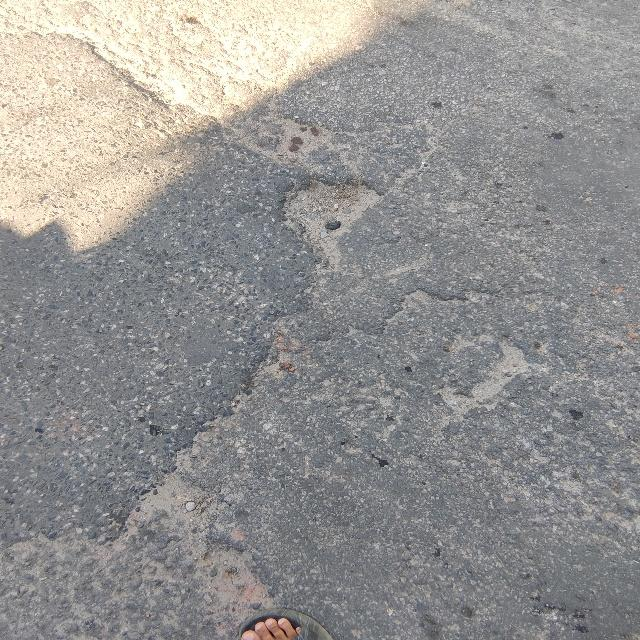Surface Erosion: (51, 39, 640, 635)
